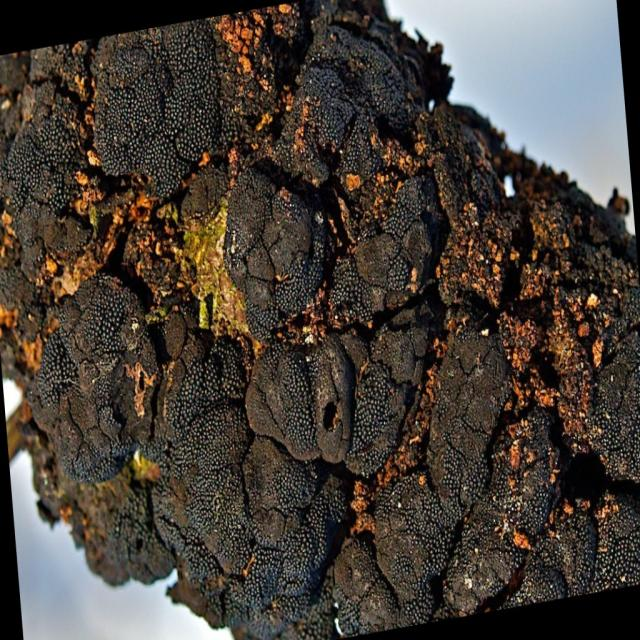Black_knot: (2, 1, 637, 636), (90, 19, 222, 199), (222, 158, 328, 338)
